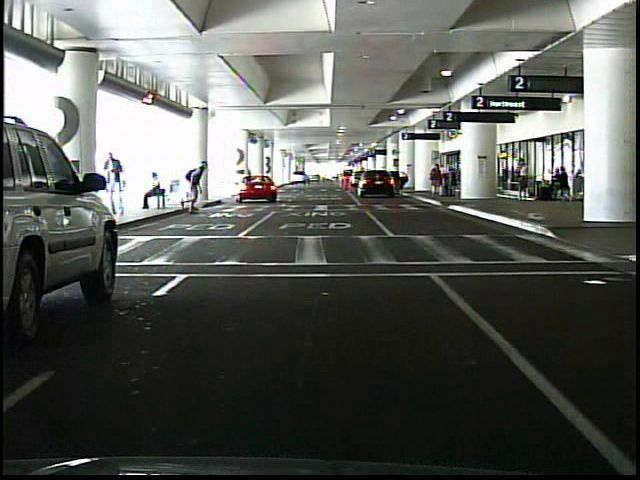person: (180, 159, 214, 214), (107, 152, 127, 216), (141, 171, 165, 211), (428, 163, 445, 199), (519, 156, 532, 200), (452, 164, 453, 197)
